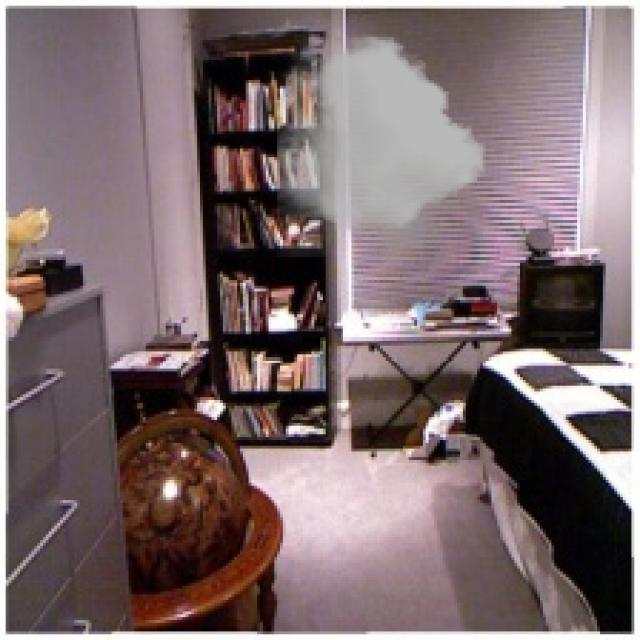smoke: (277, 32, 486, 257)
